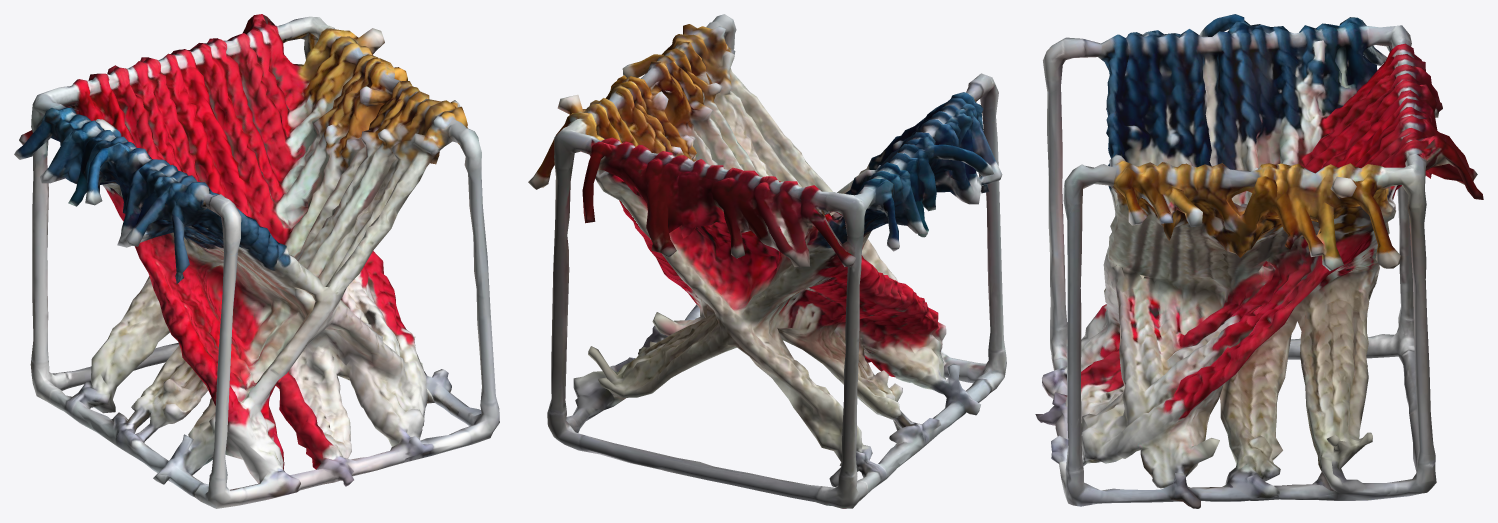
The picture shows the model from 3 angles, left to right: view 1: azimuth 30°, elevation 25°; view 2: azimuth 150°, elevation 25°; view 3: azimuth 270°, elevation 25°; orthographic projection. The views are drawn at different scales.
Parts seen in each view (by area): view 1: Chair; view 2: Chair; view 3: Chair.
Boxes of the visible parts, x1=… form: Chair: x1=14, y1=14, x2=499, y2=508; Chair: x1=528, y1=14, x2=1006, y2=508; Chair: x1=1035, y1=14, x2=1483, y2=508.
Size of the model in its own units: 0.6753 by 0.5381 by 0.6401.
1 material, 1 textured.
